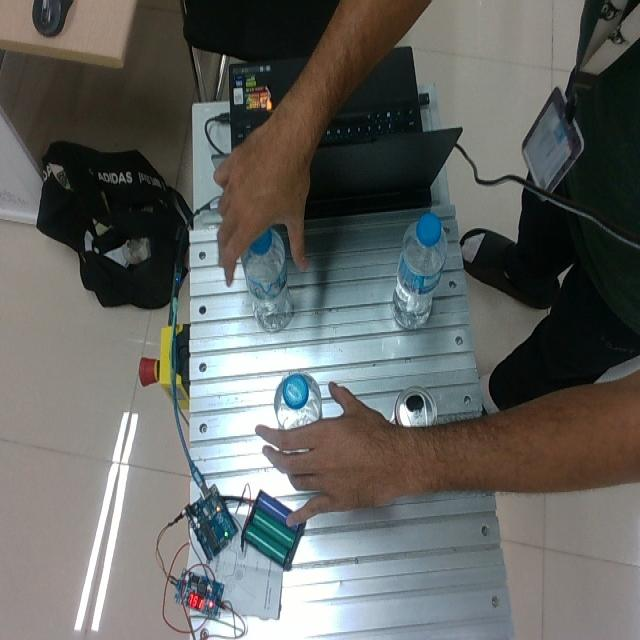coca: (391, 383, 439, 427)
lavie: (391, 213, 447, 329), (242, 227, 292, 331), (273, 370, 322, 442)
